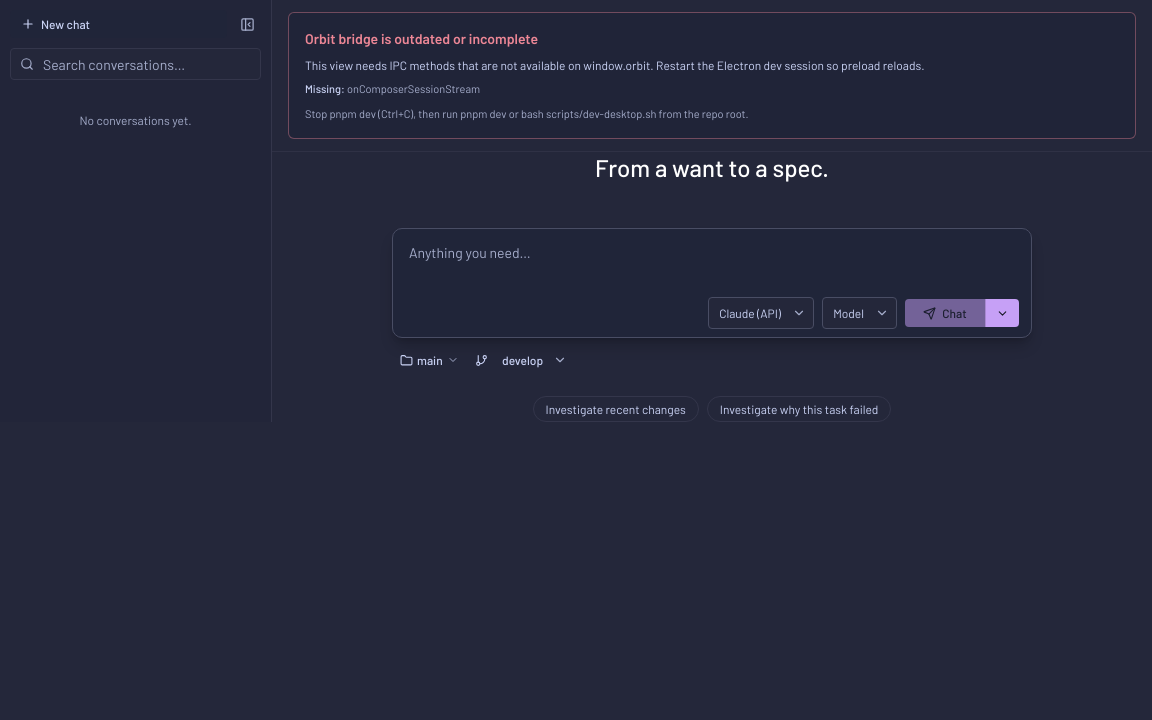
Scenario: ChatView › keeps a failed first send in draft history sidebar
Check: the button "Chat" is shown, box [905,299,985,327]
Step 1. Type "first send should remain visible" into the text box with placeholder "Anything you need…" → coordinates (712, 265), box [401,237,1023,293]
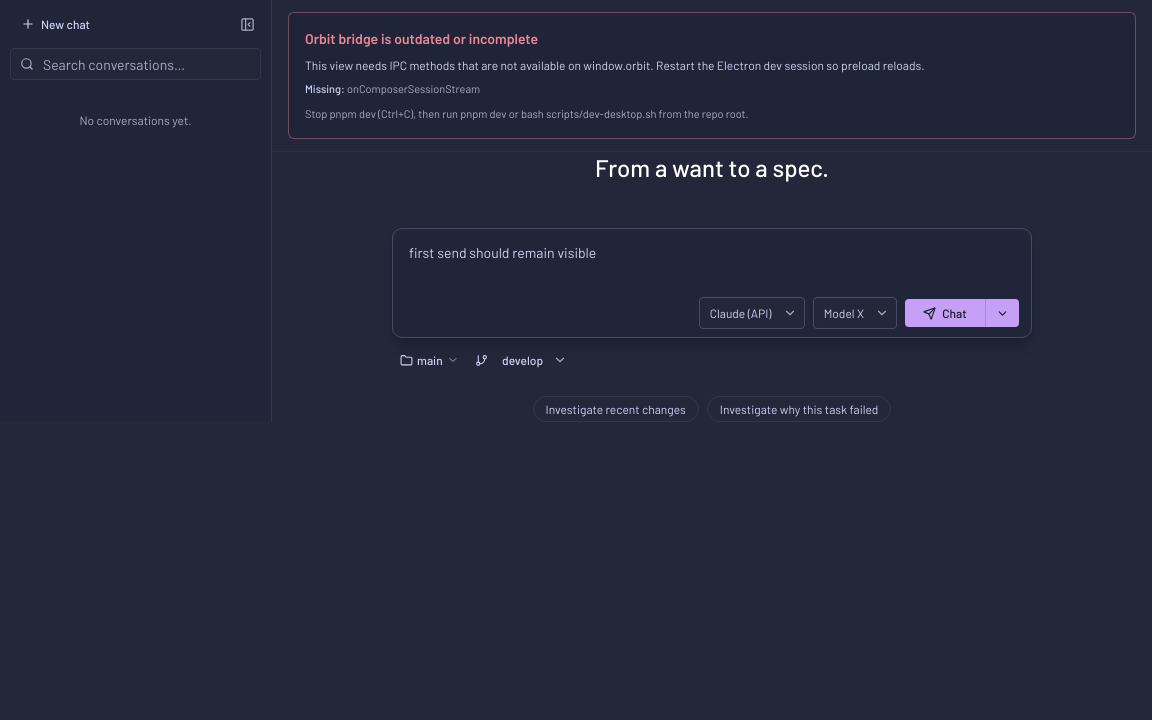
Check: the button "Chat" is enabled
Step 2. Click the button "Chat" → coordinates (945, 313), box [905,299,985,327]
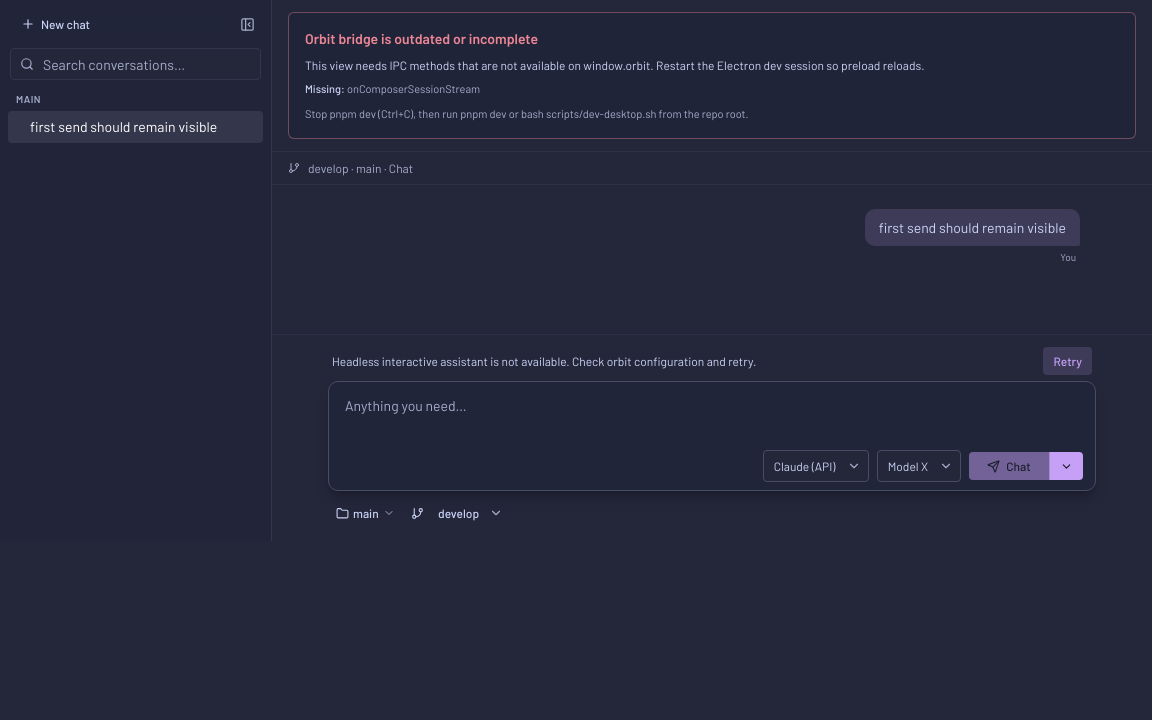
Check: the text "Headless interactive assistant is not available. Check orbit configuration and retry." is shown, box [332,354,756,368]
Check: the button "first send should remain visible" is shown, box [8,111,263,143]
